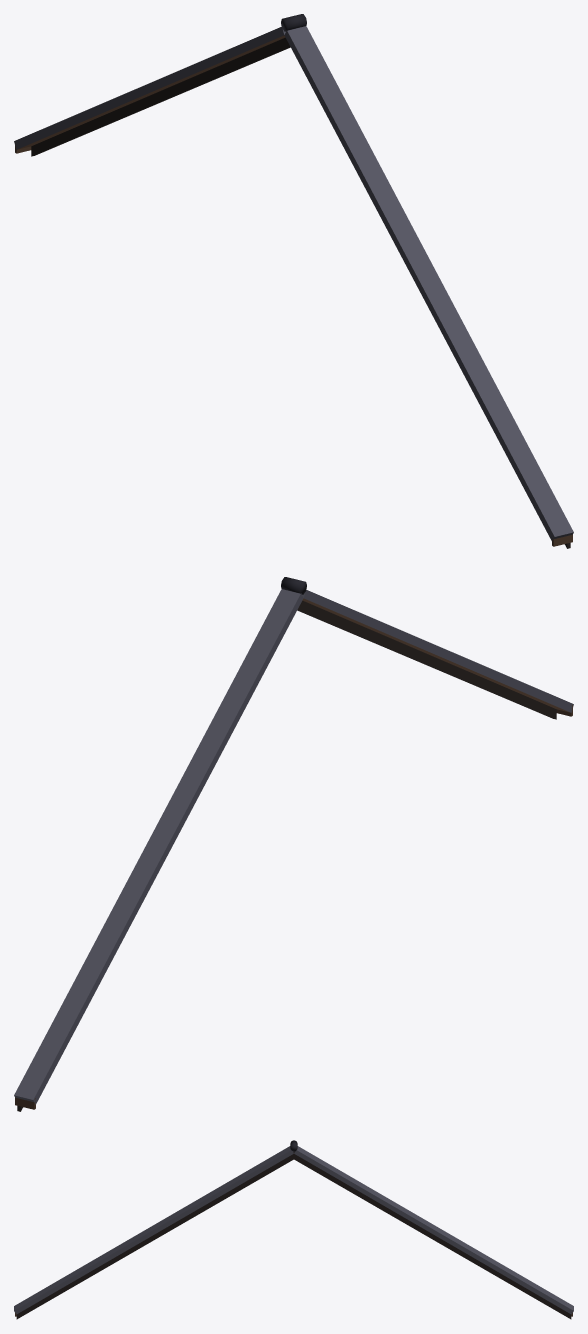
Rendered from kit_stone_slate_w10_end.glb.
3 views of the same model, one above another, from view 1: azimuth 30°, elevation 25°; view 2: azimuth 150°, elevation 25°; view 3: azimuth 270°, elevation 25° (orthographic). The views are drawn at different scales.
Visible parts, largest first — view 1: kit_stone_slate_w10_end; view 2: kit_stone_slate_w10_end; view 3: kit_stone_slate_w10_end.
Part boxes in pixels (x1=…): kit_stone_slate_w10_end: x1=14, y1=14, x2=573, y2=548; kit_stone_slate_w10_end: x1=14, y1=577, x2=573, y2=1111; kit_stone_slate_w10_end: x1=14, y1=1140, x2=573, y2=1319.
Size of the model in its own units: 0.22 by 3.68 by 10.7.
